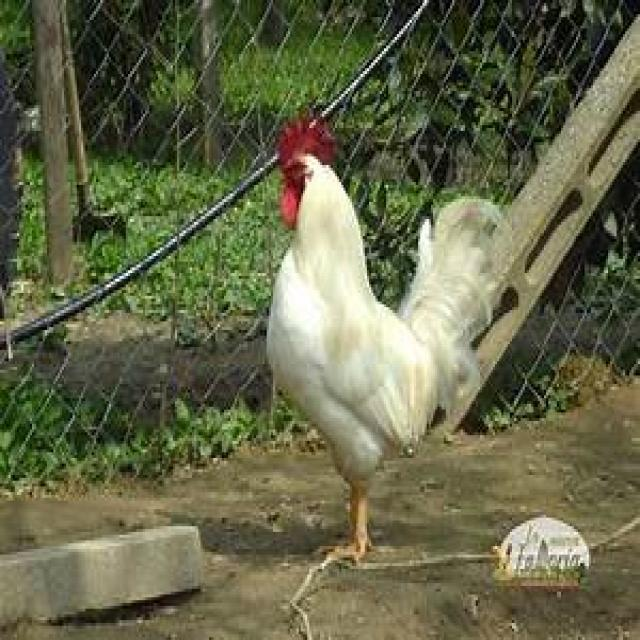hen: (265, 117, 529, 566)
